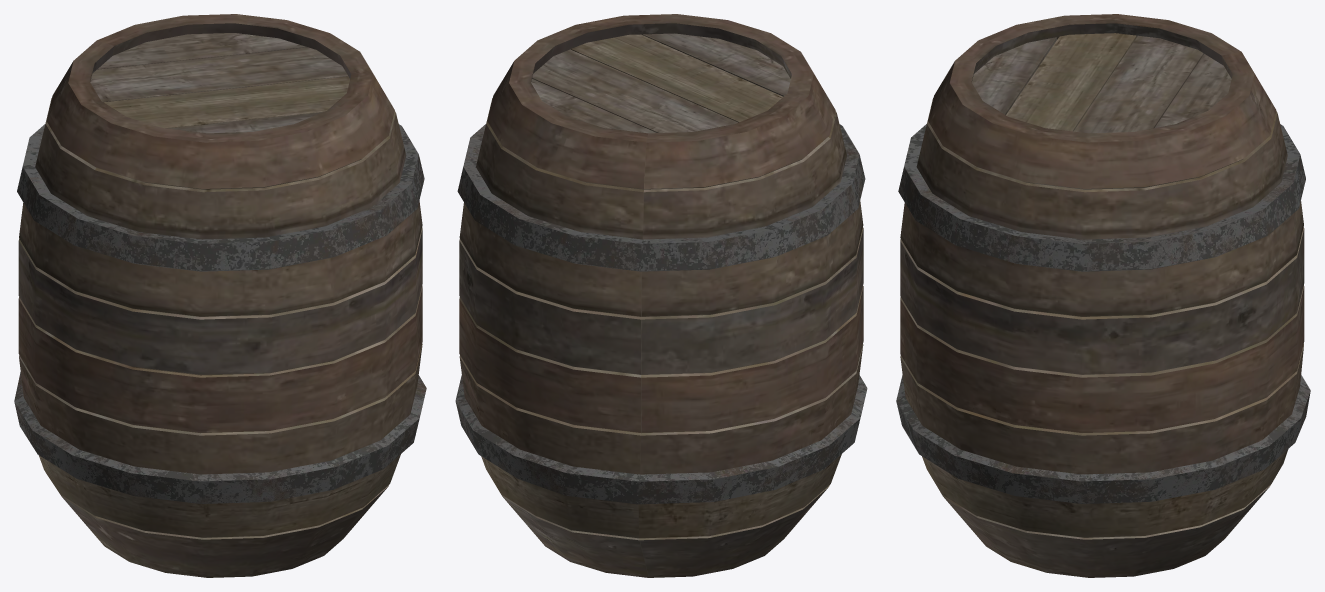
File: Barrel_02.glb
3 views of the same model, side by side, from view 1: azimuth 30°, elevation 25°; view 2: azimuth 150°, elevation 25°; view 3: azimuth 270°, elevation 25° (orthographic).
Visible parts, largest first — view 1: SM_Barrel_02; view 2: SM_Barrel_02; view 3: SM_Barrel_02.
Boxes of the visible parts, x1,y1,x2,y2 form: SM_Barrel_02: (14,14,426,577); SM_Barrel_02: (455,14,867,577); SM_Barrel_02: (896,14,1310,577).
Bounding box in the file's own units: 0.4837 × 0.5792 × 0.4878.
Materials: 2 (2 with a texture image).
